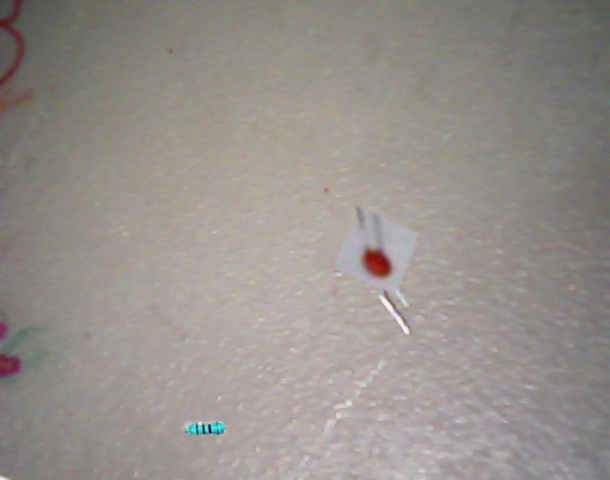capacitor: (334, 206, 419, 293)
resistor: (185, 421, 226, 434)
